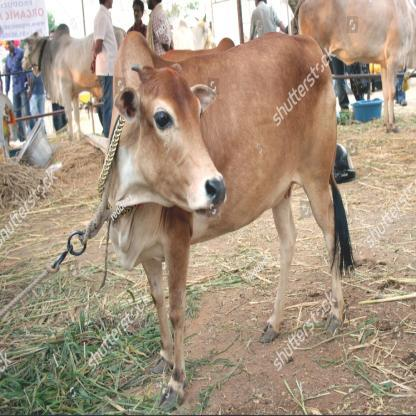cow: (108, 39, 348, 344), (298, 0, 416, 121), (24, 42, 104, 141)
